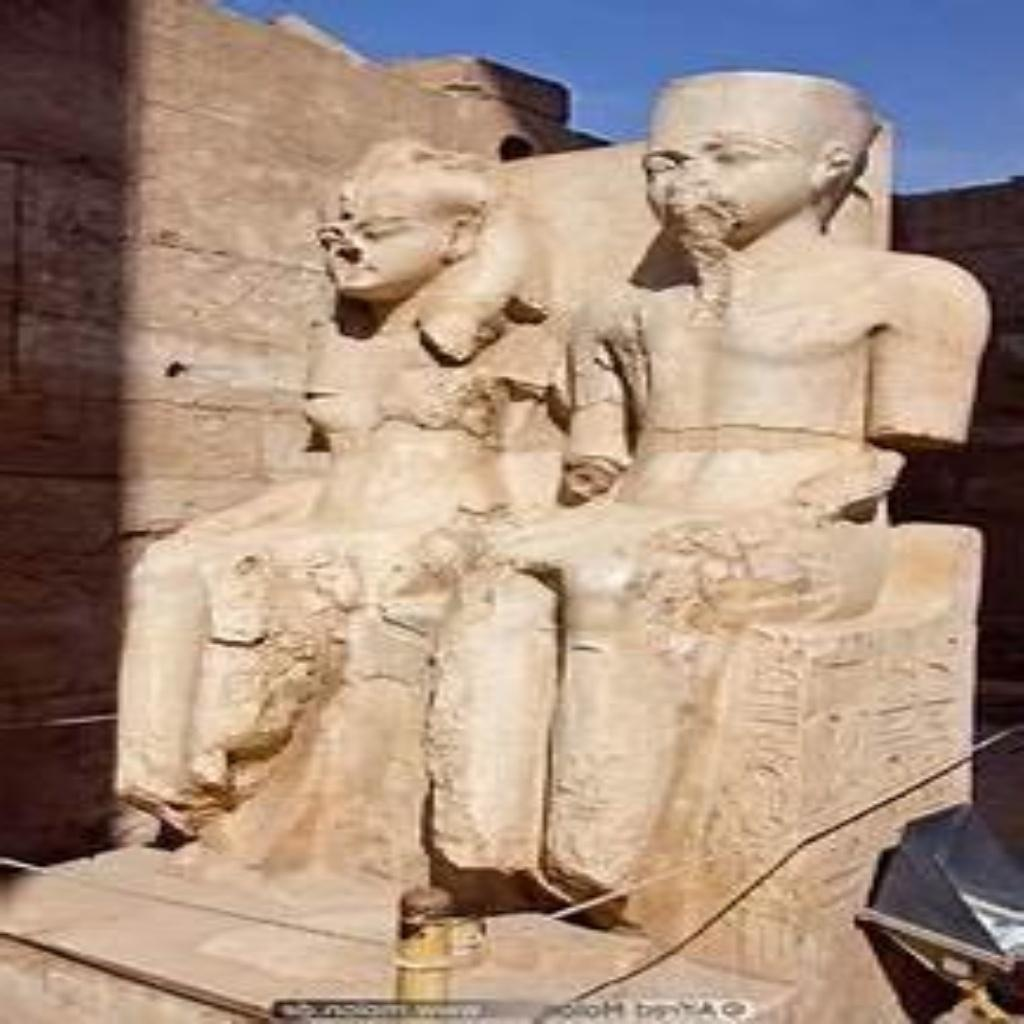Statue of Ankhesenamun: (108, 132, 550, 825)
Statue of Tutankhamun: (430, 66, 1000, 900)
